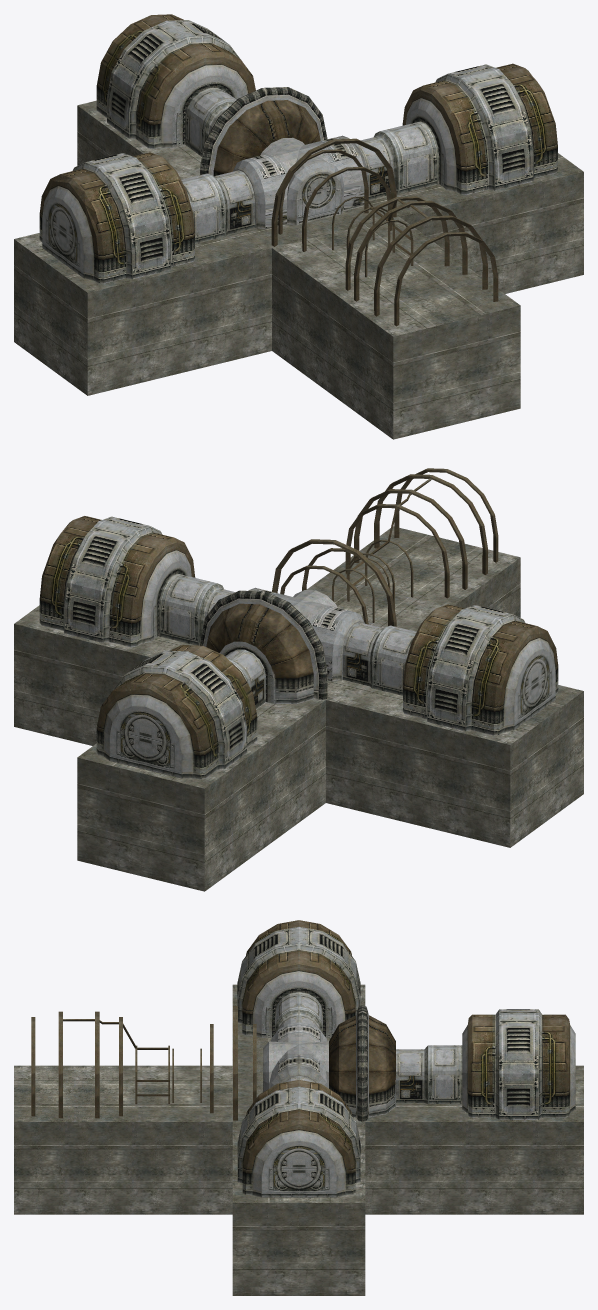
The model's file is ins_shield_generator_const_3_l0.fbx.
The picture shows the model from 3 angles, top to bottom: view 1: azimuth 30°, elevation 25°; view 2: azimuth 150°, elevation 25°; view 3: azimuth 270°, elevation 25°; orthographic projection. The views are drawn at different scales.
Visible parts, largest first — view 1: mesh_node; view 2: mesh_node; view 3: mesh_node.
Boxes of the visible parts, left/top/right/bottom form: mesh_node: left=14, top=14, right=583, bottom=439; mesh_node: left=14, top=468, right=583, bottom=891; mesh_node: left=14, top=920, right=583, bottom=1295.
Bounding box in the file's own units: 15.76 × 5.91 × 17.39.
